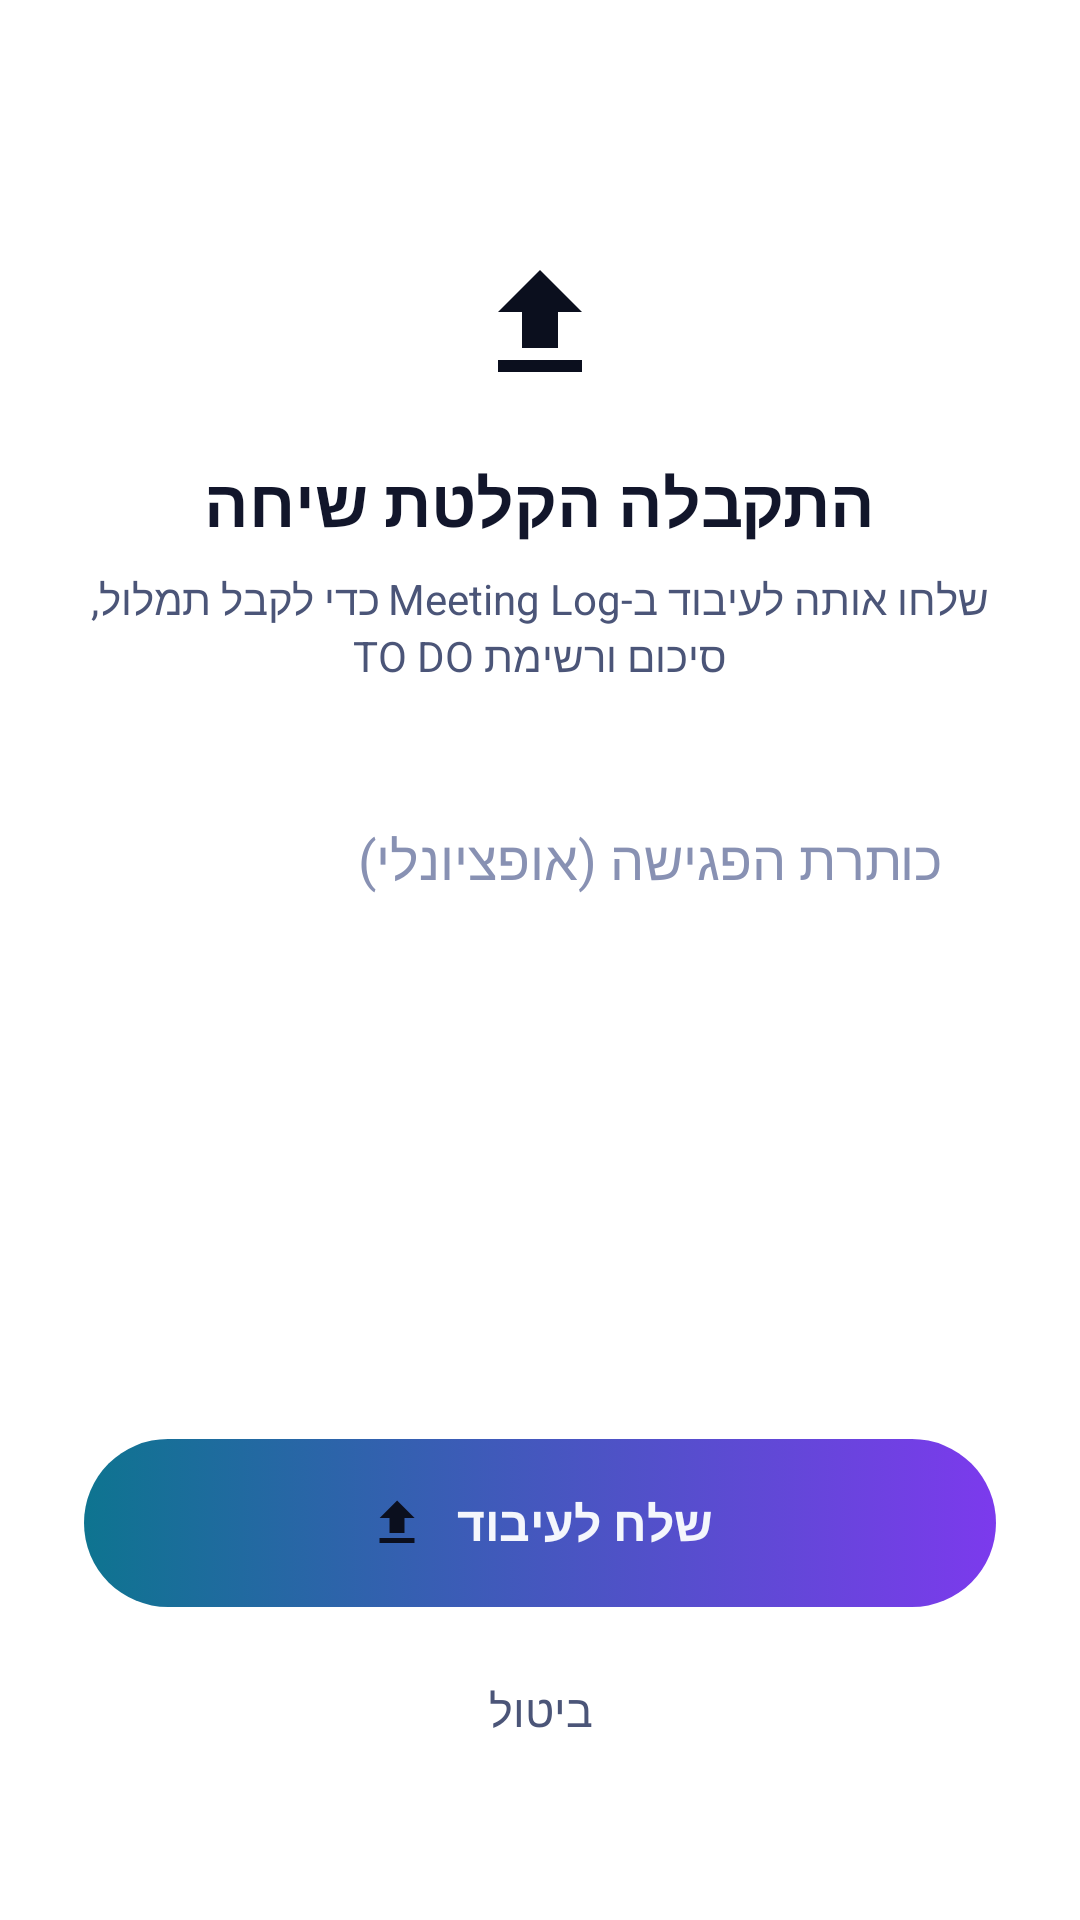

Icons on this 1080 x 1920 Android screen, each with its box as (x1, y1, x2, y2):
upload: (498, 270, 582, 372), (379, 1500, 415, 1543)
